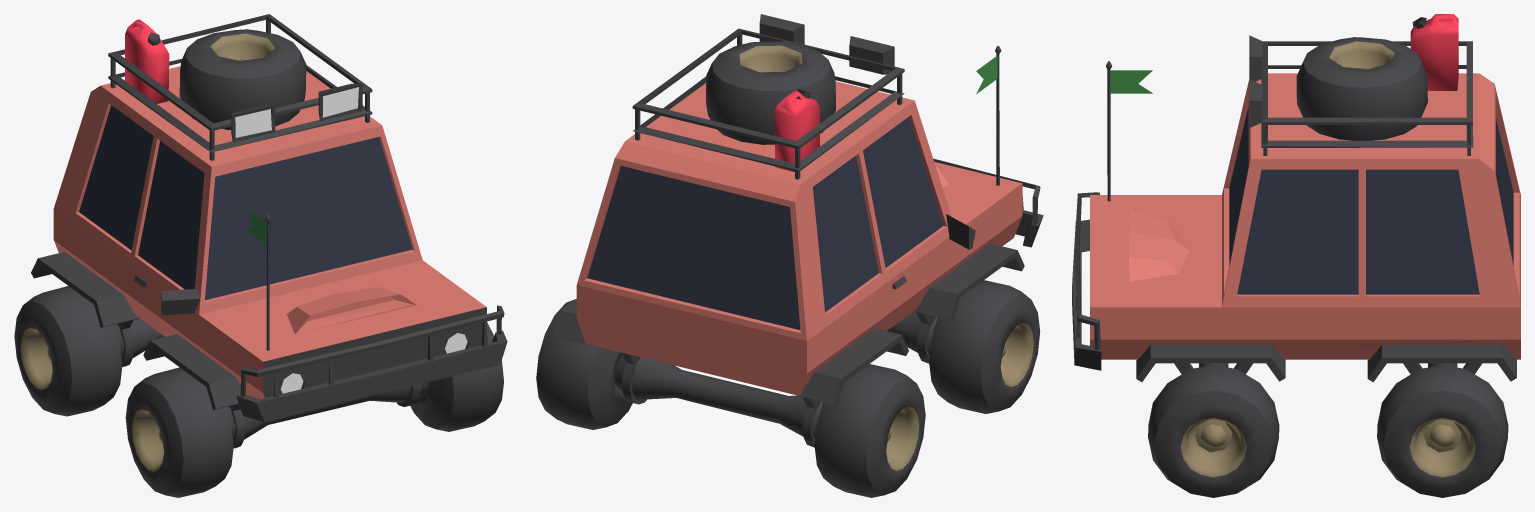
The model's file is suv.fbx.
3 views of the same model, side by side, from view 1: azimuth 30°, elevation 25°; view 2: azimuth 150°, elevation 25°; view 3: azimuth 270°, elevation 25° (orthographic). The views are drawn at different scales.
Visible parts, largest first — view 1: chasis, wheel_FR, wheel_RR, wheel_FL; view 2: chasis, wheel_RR, wheel_FR, wheel_RL; view 3: chasis, wheel_FL, wheel_RL.
Boxes of the visible parts, x1,y1,x2,y2 form: chasis: (31,14,507,448); wheel_FR: (125,367,233,497); wheel_RR: (14,286,122,416); wheel_FL: (410,322,503,431); chasis: (553,14,1043,447); wheel_RR: (814,364,925,497); wheel_FR: (929,280,1040,413); wheel_RL: (536,299,632,429); chasis: (1072,14,1520,382); wheel_FL: (1148,365,1279,497); wheel_RL: (1377,365,1508,497).
Bounding box in the file's own units: 299 × 314 × 338.
